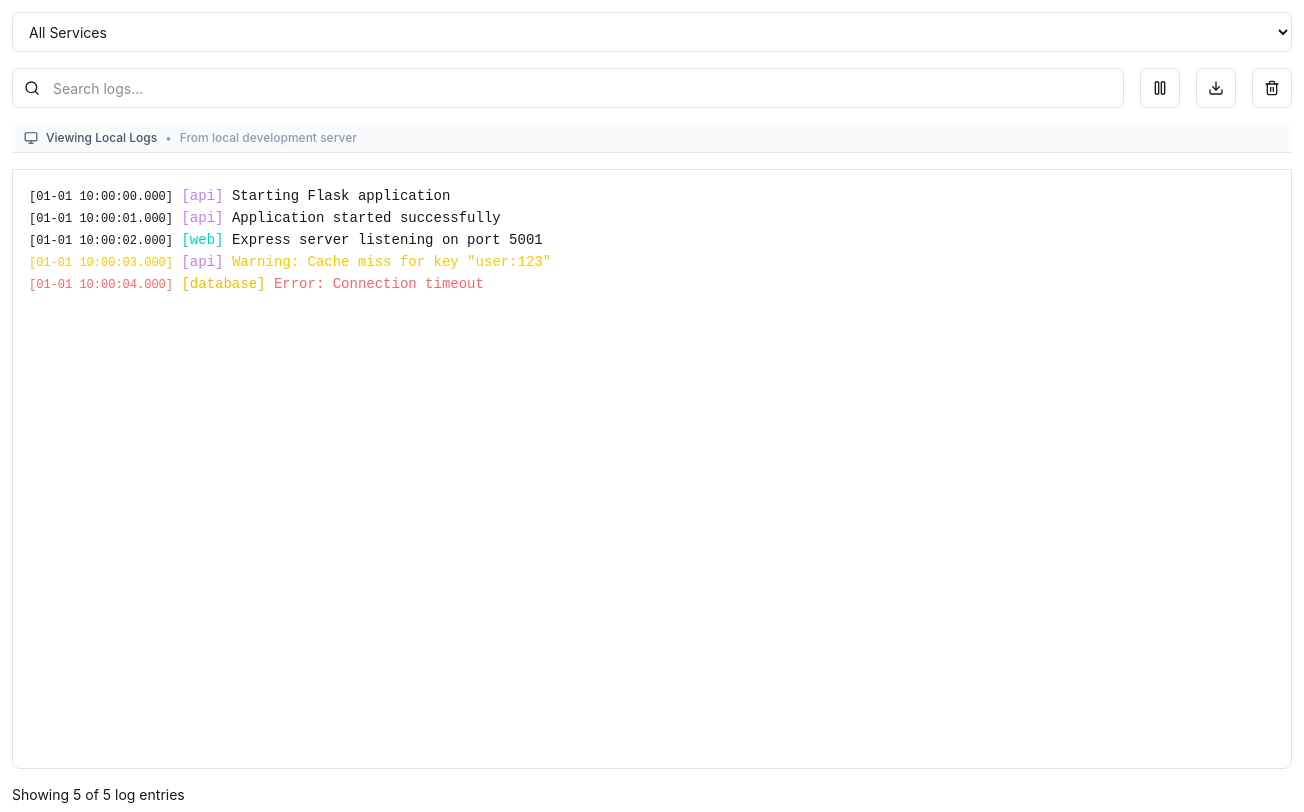
LogsView › should filter logs by search term
Check: the text "Starting Flask application" is shown, box [232, 188, 450, 204]
Type "Flask" into the field with placeholder "Search logs..." at (568,88), box [12, 68, 1124, 108]
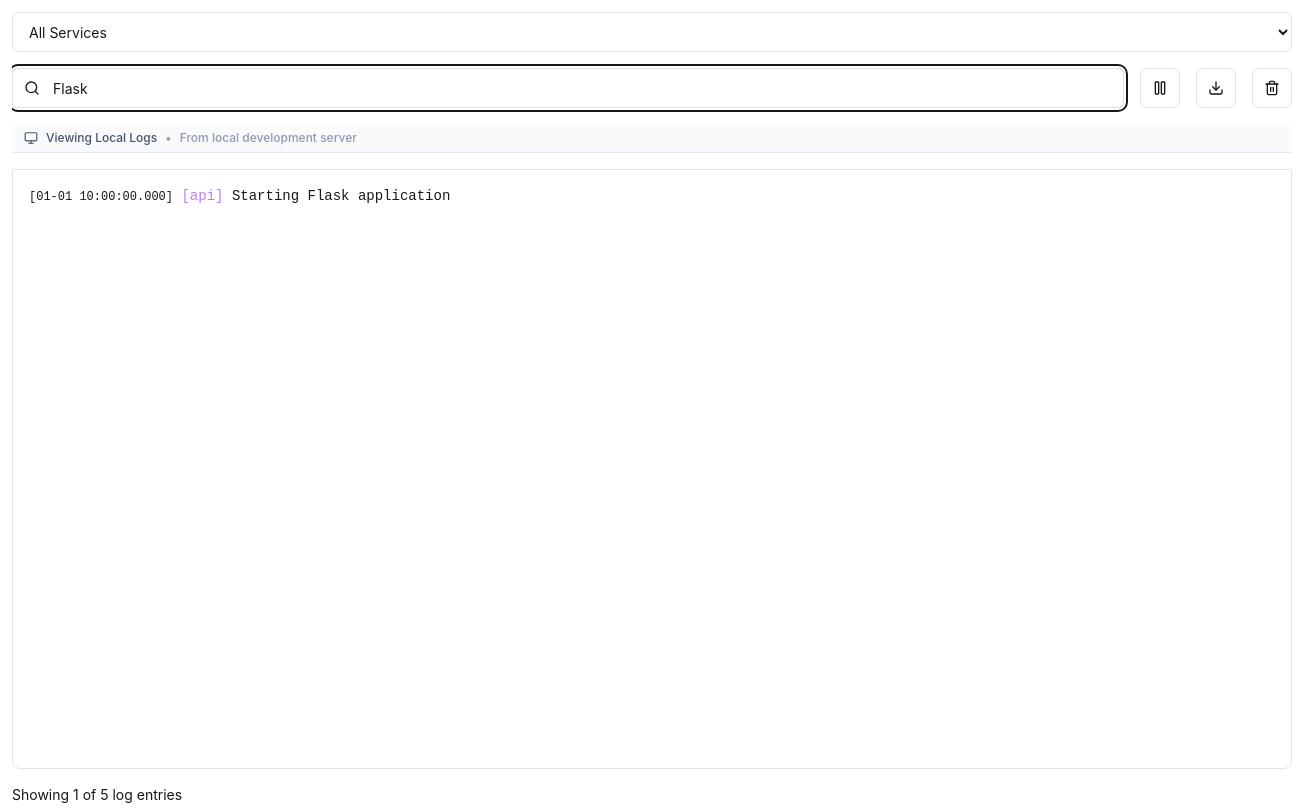
Check: the text "Starting Flask application" is shown, box [232, 188, 450, 204]
Check: the text "Express server" is gone
